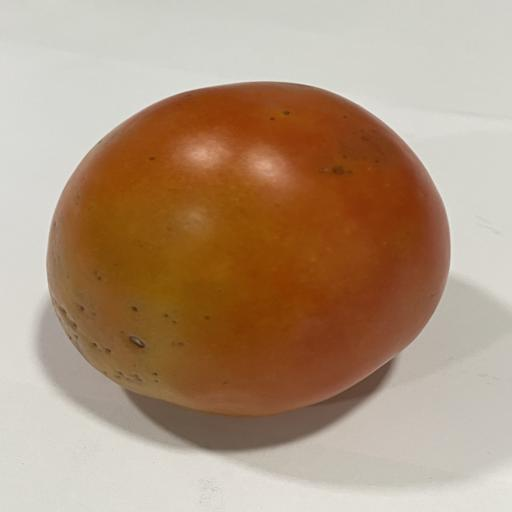unripe: (47, 82, 450, 416)
